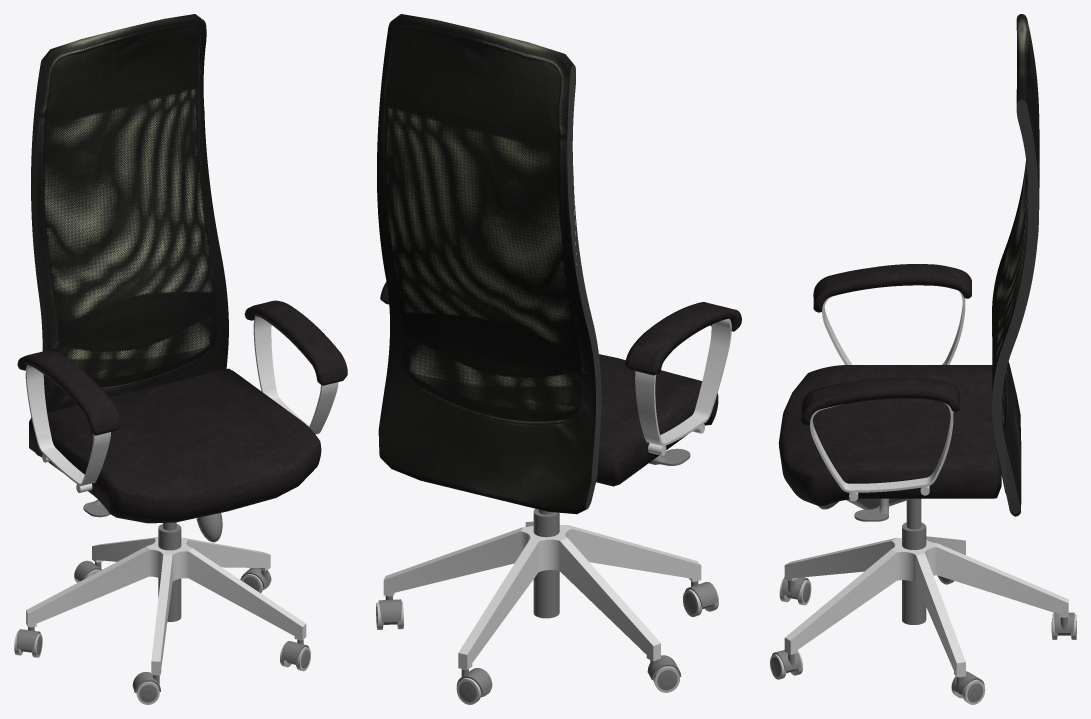
Rendered from ikea-markus-chair.glb.
3 renders of one model, left to right at view 1: azimuth 30°, elevation 25°; view 2: azimuth 150°, elevation 25°; view 3: azimuth 270°, elevation 25°, orthographic. The views are drawn at different scales.
Visible parts, largest first — view 1: ID4, ID126, ID85, ID64, ID255; view 2: ID4, ID85, ID126, ID64, ID255; view 3: ID126, ID85, ID4, ID64, ID255.
Part boxes in pixels (x1=…): ID4: x1=31, y1=14, x2=228, y2=456; ID126: x1=17, y1=300, x2=347, y2=523; ID85: x1=25, y1=315, x2=338, y2=675; ID64: x1=16, y1=499, x2=309, y2=702; ID255: x1=14, y1=569, x2=310, y2=704; ID4: x1=377, y1=14, x2=601, y2=514; ID85: x1=383, y1=318, x2=731, y2=669; ID126: x1=380, y1=281, x2=741, y2=486; ID64: x1=376, y1=448, x2=717, y2=702; ID255: x1=376, y1=588, x2=718, y2=704; ID126: x1=778, y1=264, x2=1001, y2=506; ID85: x1=784, y1=291, x2=1068, y2=677; ID4: x1=992, y1=14, x2=1039, y2=516; ID64: x1=771, y1=498, x2=1076, y2=702; ID255: x1=770, y1=575, x2=1076, y2=704.
Size of the model in its own units: 0.62 by 1.29 by 0.6.
7 materials, 2 textured.
